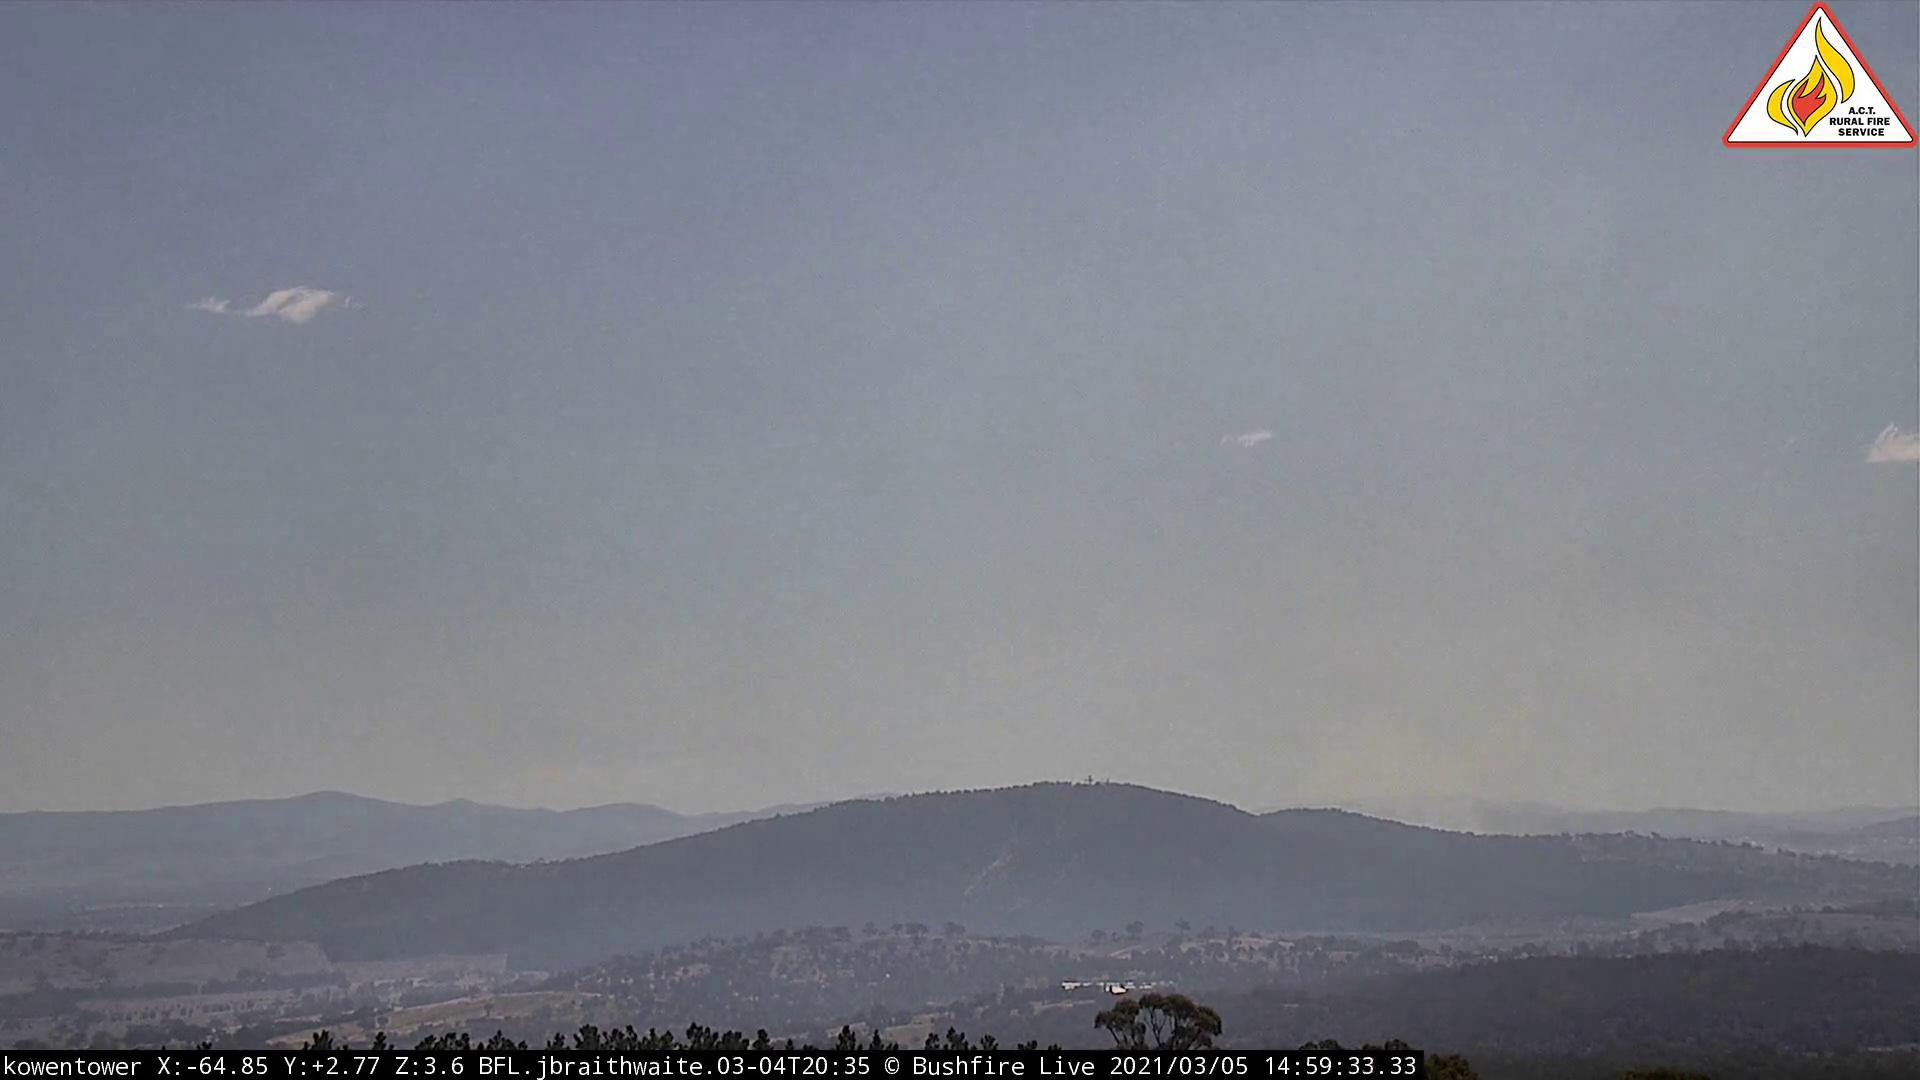Smoke: (1139, 500, 1764, 835)
